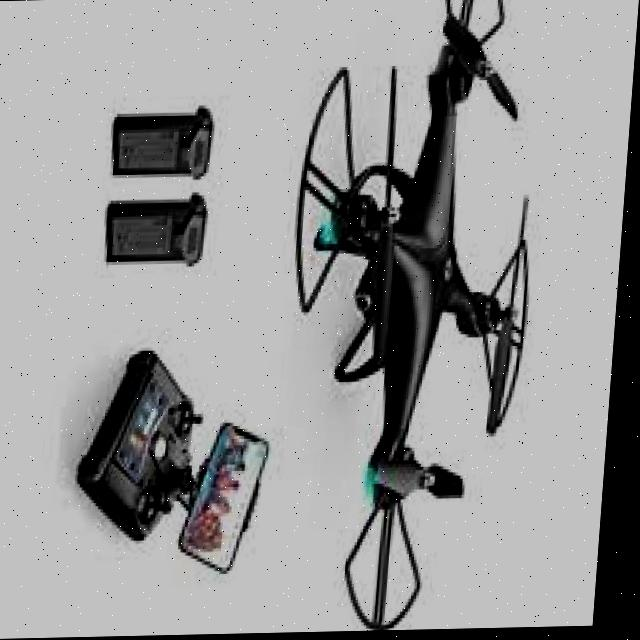drone: (263, 0, 588, 635)
